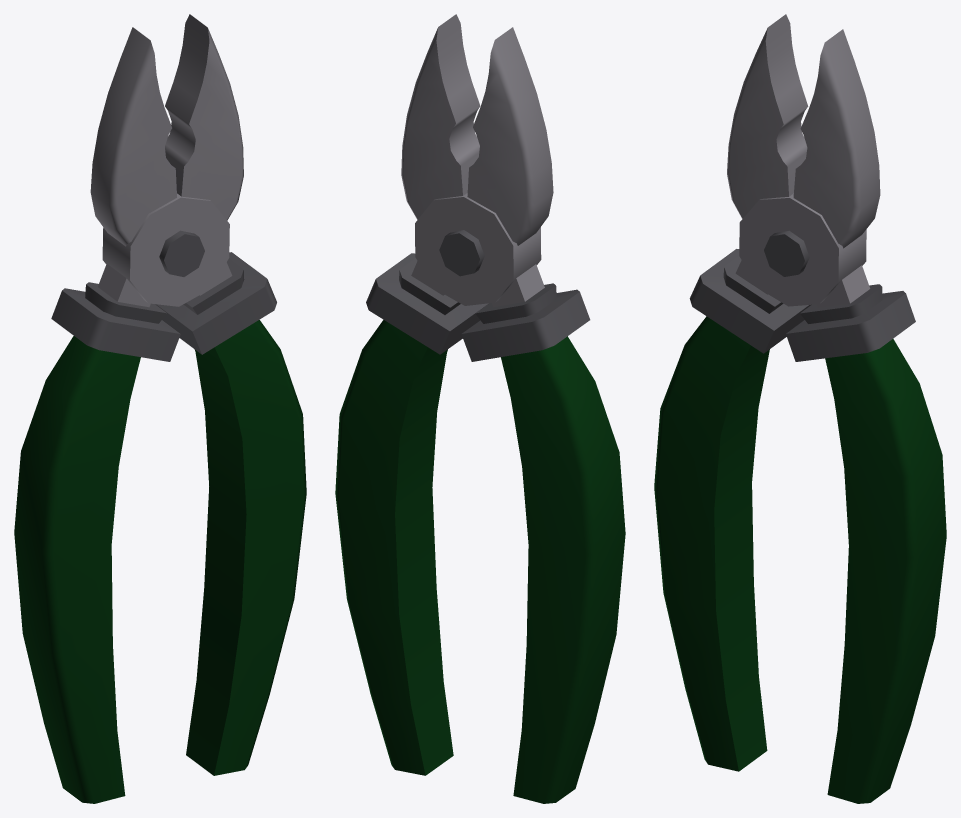
The model's file is Pliers_02.fbx.
3 views of the same model, side by side, from view 1: azimuth 30°, elevation 25°; view 2: azimuth 150°, elevation 25°; view 3: azimuth 330°, elevation 25° (orthographic).
Parts seen in each view (by area): view 1: Pliers_02; view 2: Pliers_02; view 3: Pliers_02.
Boxes of the visible parts, box(x1,y1,x2,y2) form: Pliers_02: box(14, 14, 306, 803); Pliers_02: box(335, 14, 625, 803); Pliers_02: box(654, 14, 946, 803).
Size of the model in its own units: 15.32 by 4.57 by 41.55.
